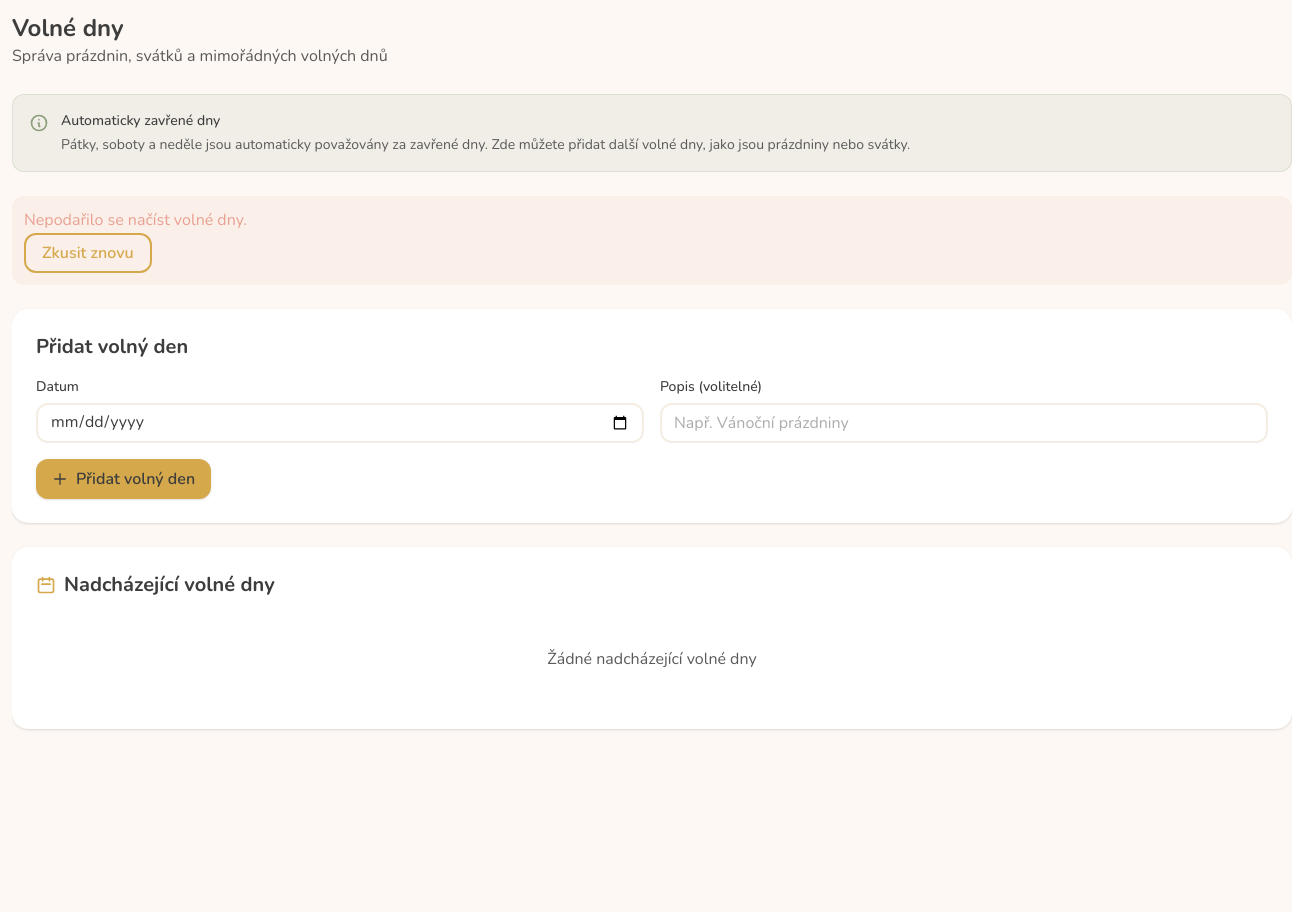
Test: shows a load error and retries
Click the button "Zkusit znovu": click(88, 253) x1=24 y1=233 x2=152 y2=273
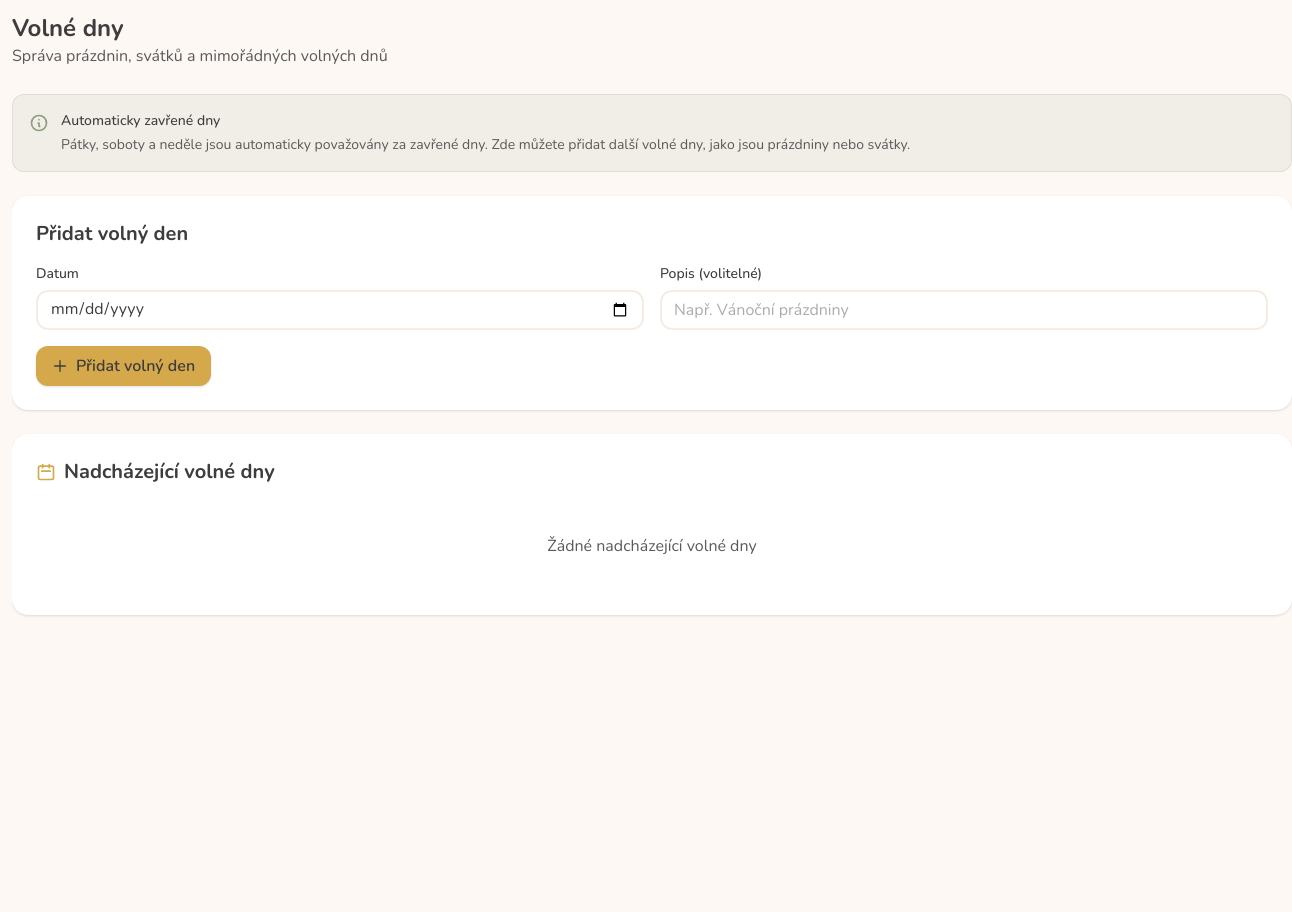
Now the message "Nepodařilo se načíst volné dny. Zkusit znovu" is gone
